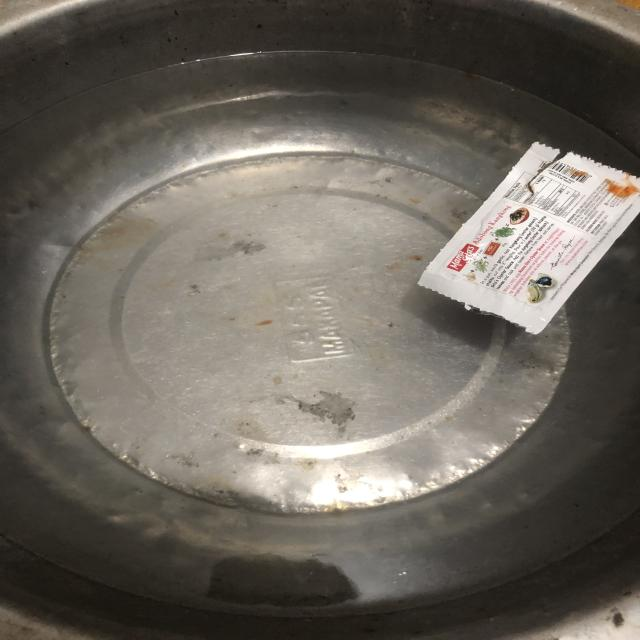Plastic Wrapper: (418, 143, 640, 334)
